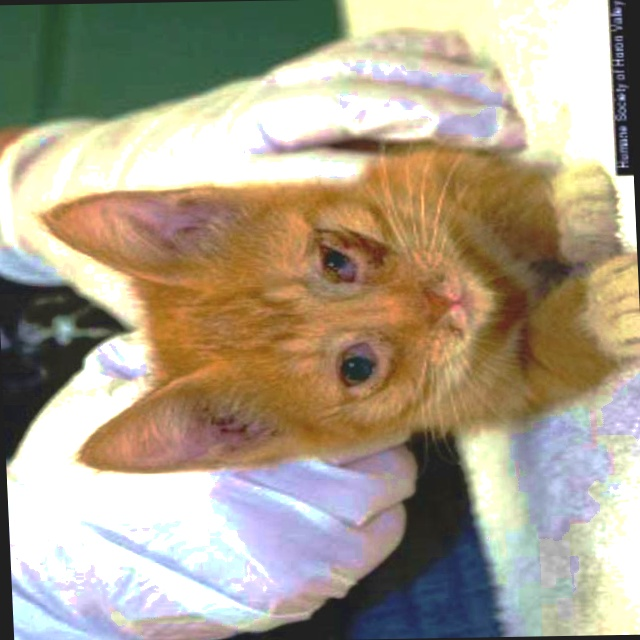eye_infection: (333, 334, 383, 391), (320, 227, 364, 285)
